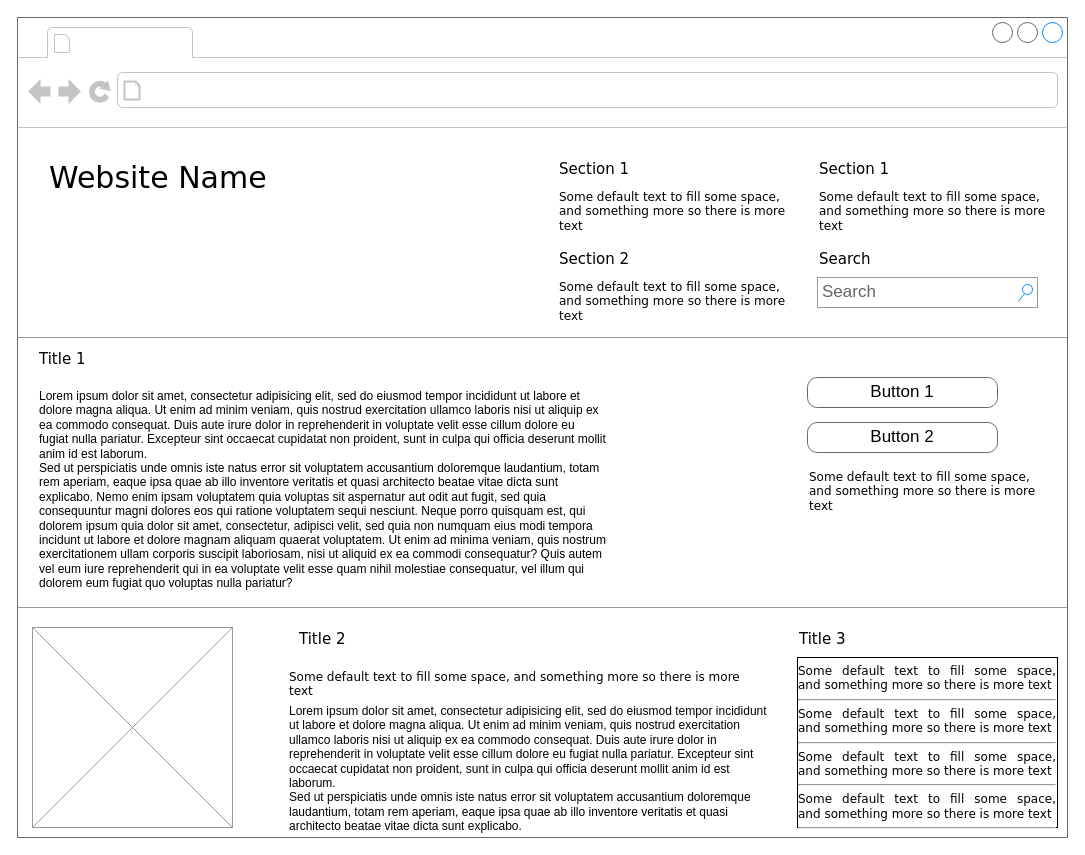
Some shapes in this 1085 by 855 pixel diagram are drawn without their labels. Here are the shapes that lost their labels. From the top down, the centre of each, then its label:
the point at 132,42: Page 1
the point at 272,90: https://www.default.com
